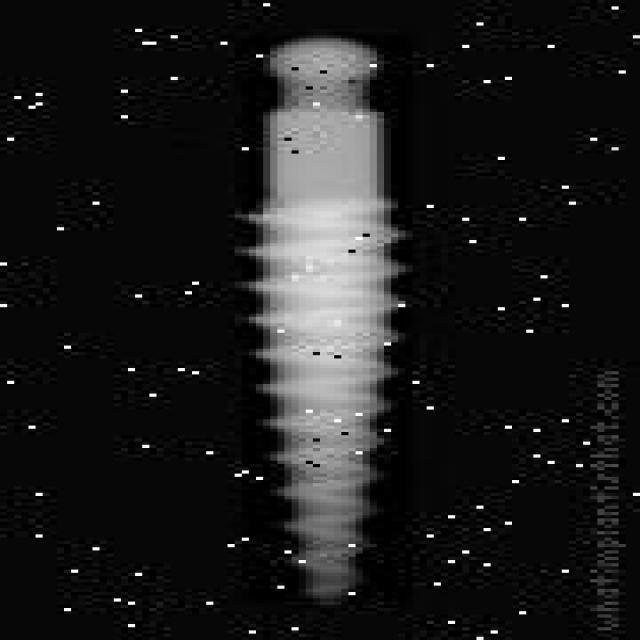Leone Implant: (224, 30, 425, 605)
